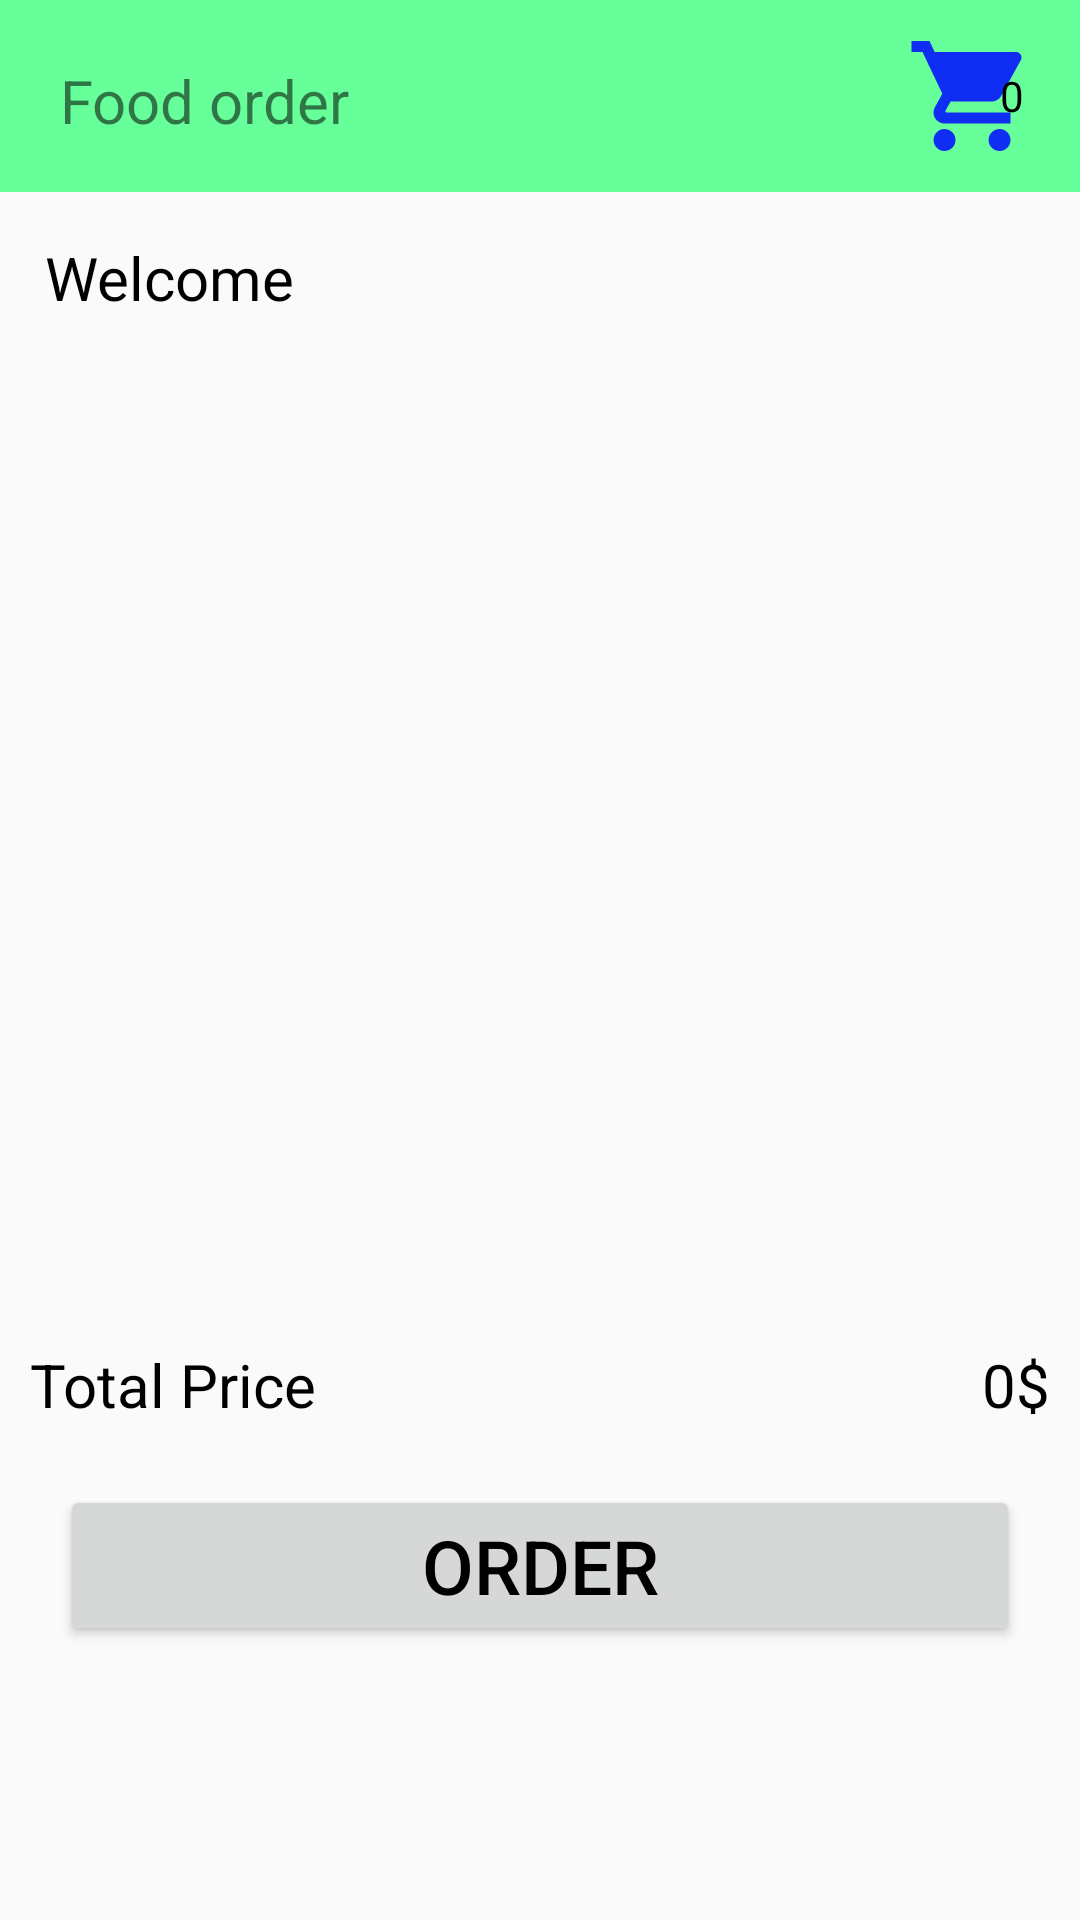

Icons on this 1080w x 1920h Android screen, each with its box as (x1, y1, x2, y2):
shopping cart: (911, 41, 1022, 151)
